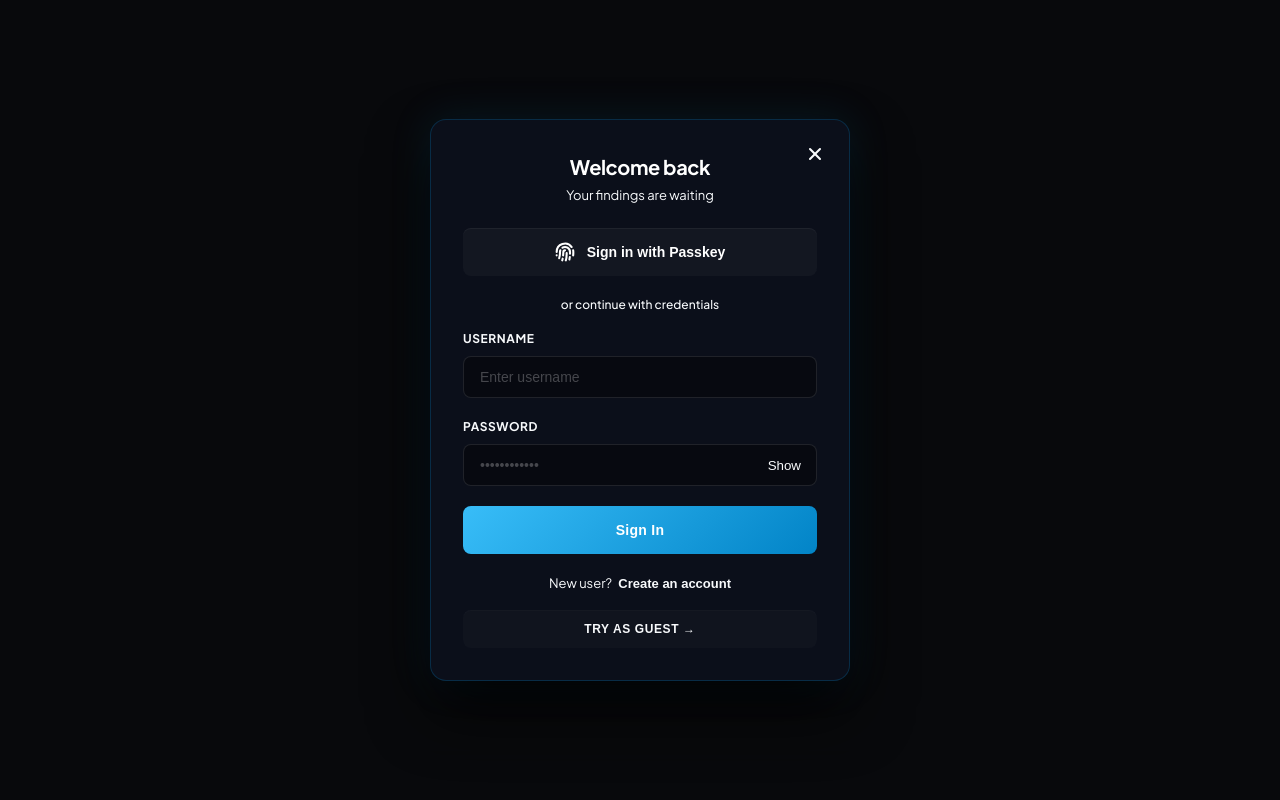
Test: AuthModal Component › displays 2FA code input when login requires 2FA
In the field with placeholder "Enter username": (640,377) 463,356 -> 817,398, type "twofauser"
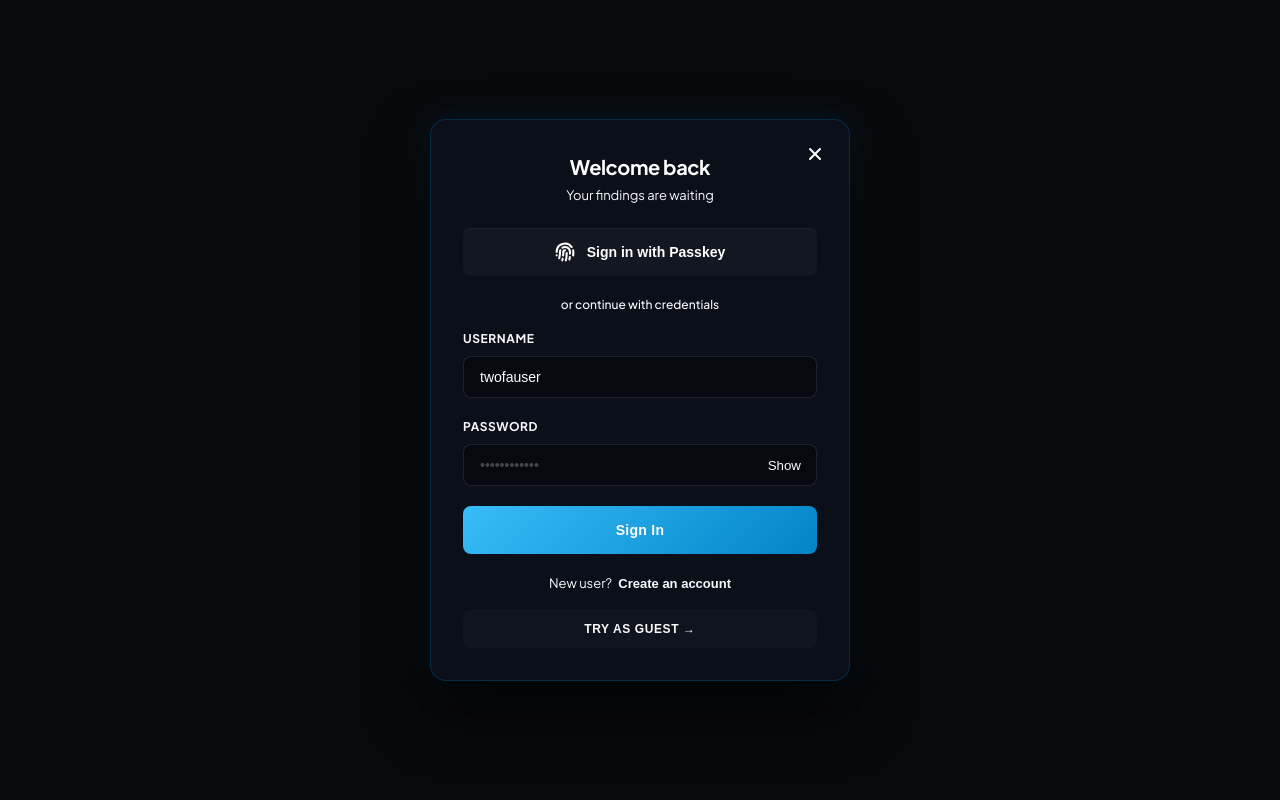
In the password field with placeholder "••••••••••••": (640,465) 463,444 -> 817,486, type "SecretPassword!"
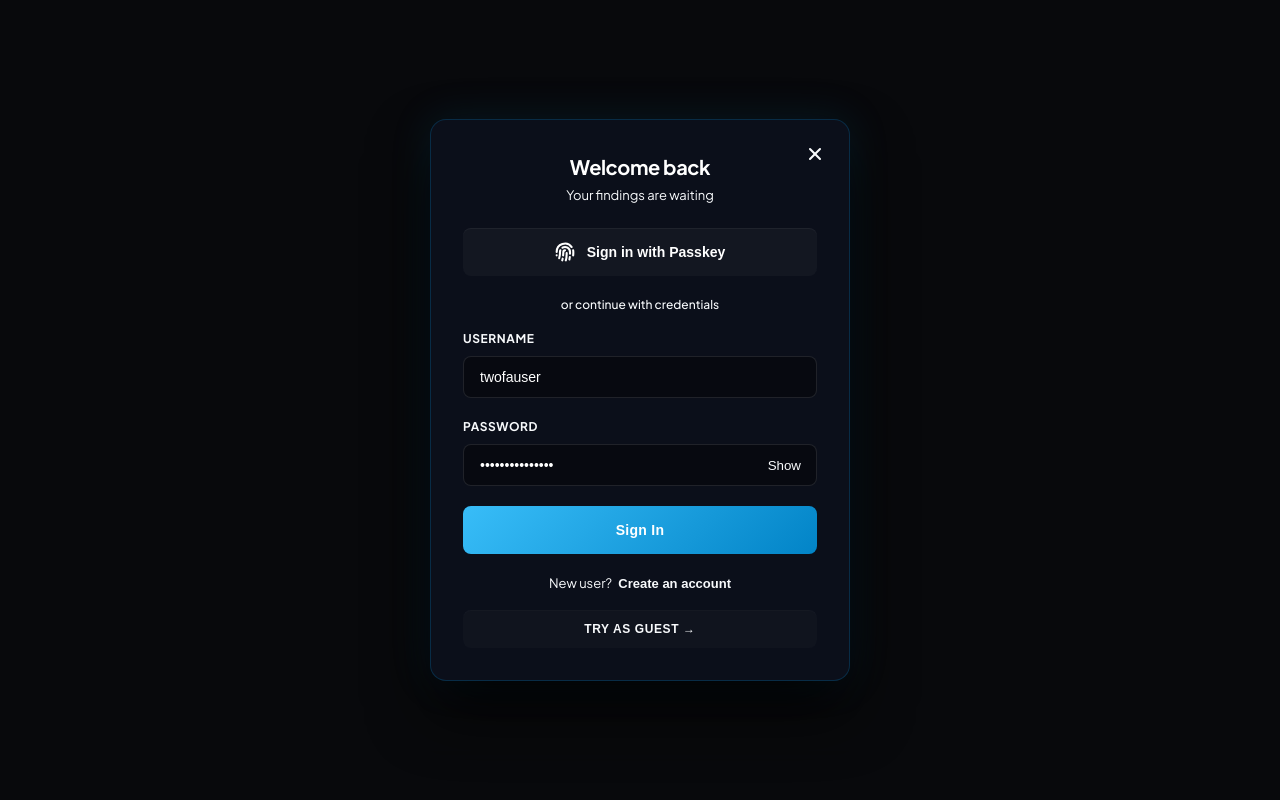
Click the button "Sign In": (640,530) 463,506 -> 817,554
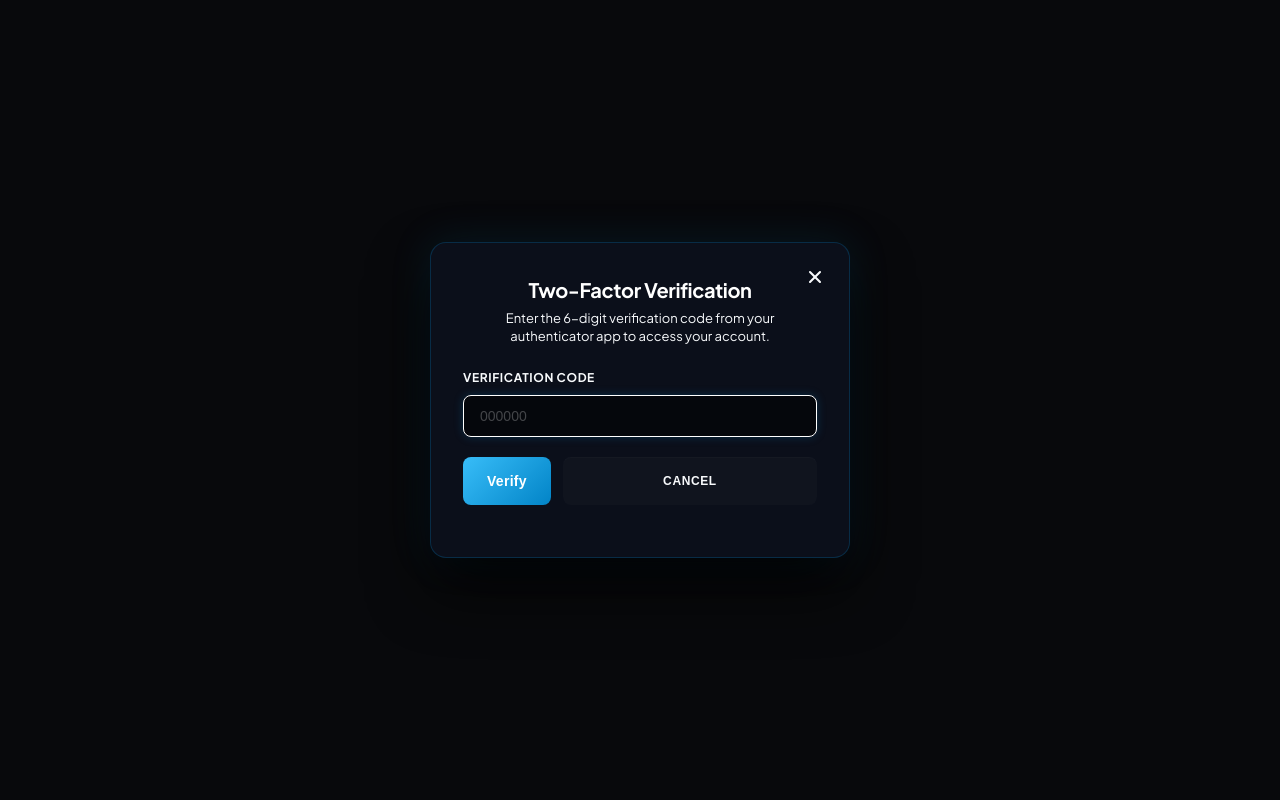
Result: the field with placeholder "000000" is shown at 463,395 -> 817,437
